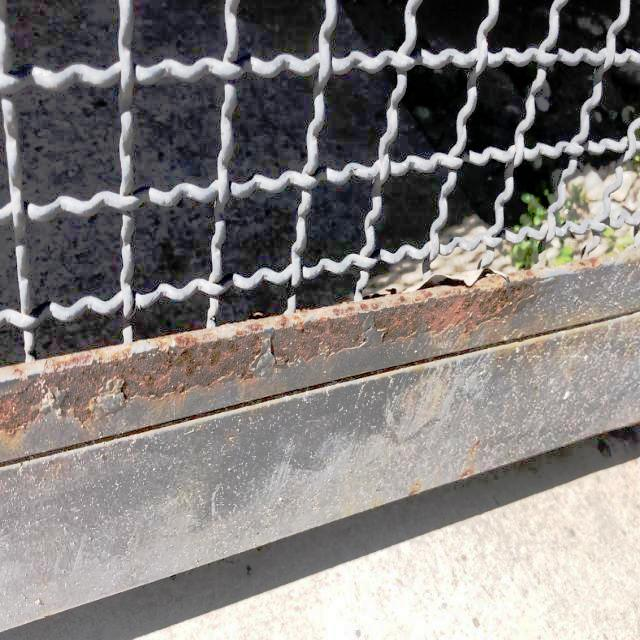Corrosion: (0, 269, 543, 440), (581, 258, 611, 272)
